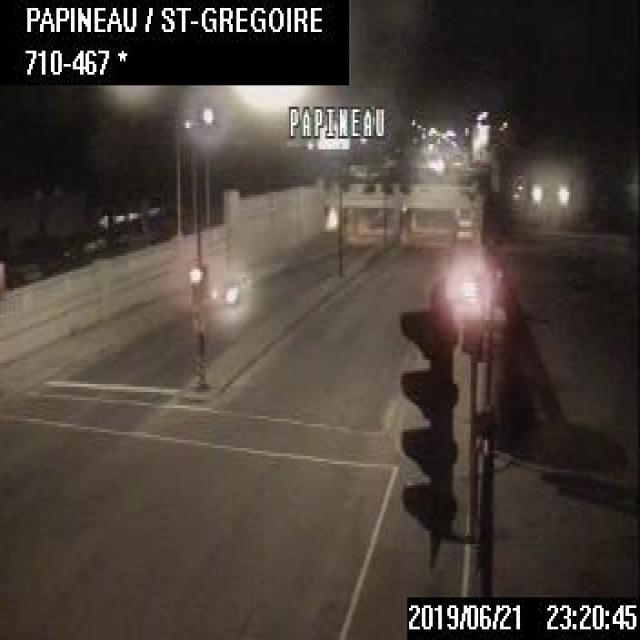vehicle: (204, 267, 249, 309)
